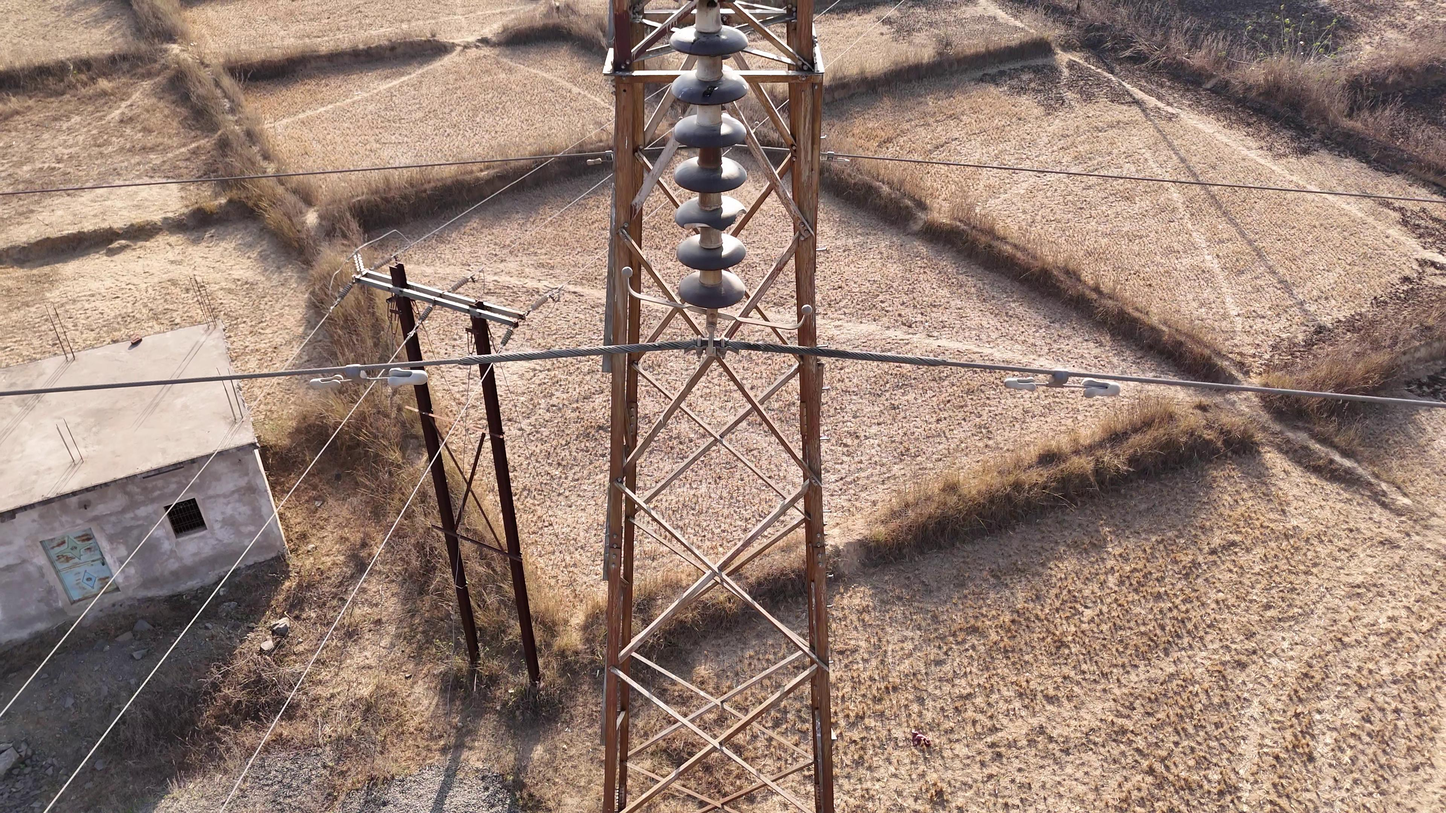broken_insulator: (672, 196, 752, 238)
